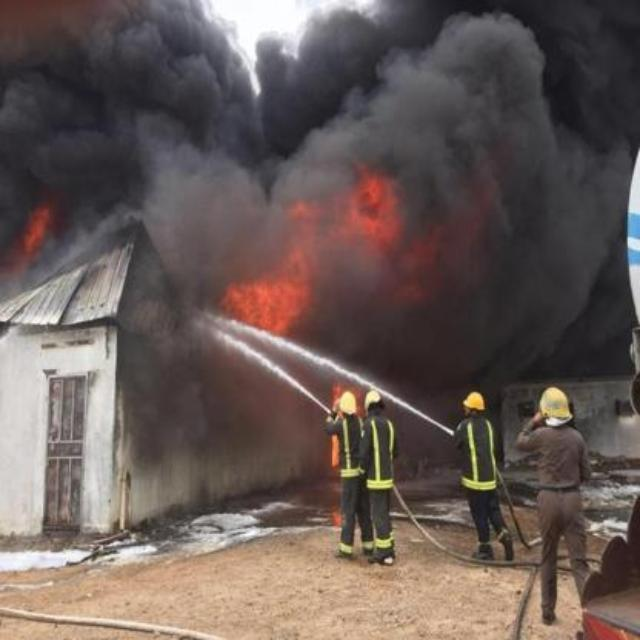Fire: (233, 258, 300, 342), (12, 197, 52, 287), (328, 379, 347, 418), (329, 432, 338, 464)
Smoke: (6, 7, 640, 200), (306, 210, 640, 376), (150, 204, 314, 262)
